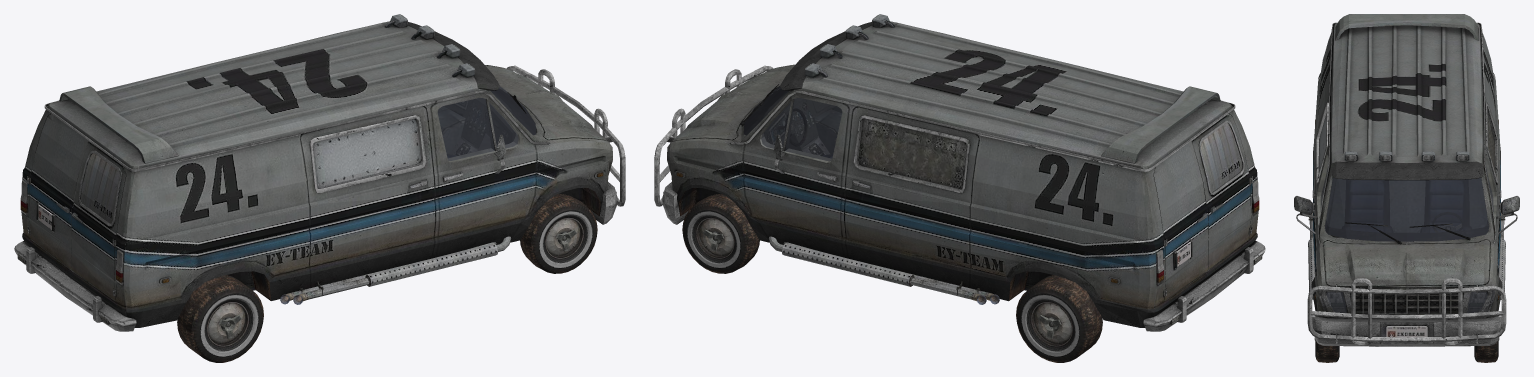
3 views of the same model, side by side, from view 1: azimuth 30°, elevation 25°; view 2: azimuth 150°, elevation 25°; view 3: azimuth 270°, elevation 25° (orthographic). The views are drawn at different scales.
Size of the model in its own units: 2.5 by 1.02 by 1.14.
Materials: 4 (3 with a texture image).
